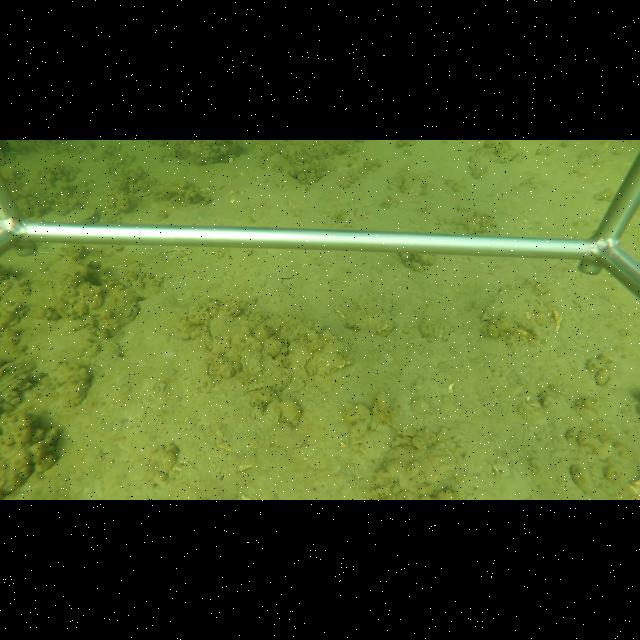Oyster-Closed: (412, 254, 435, 269)
